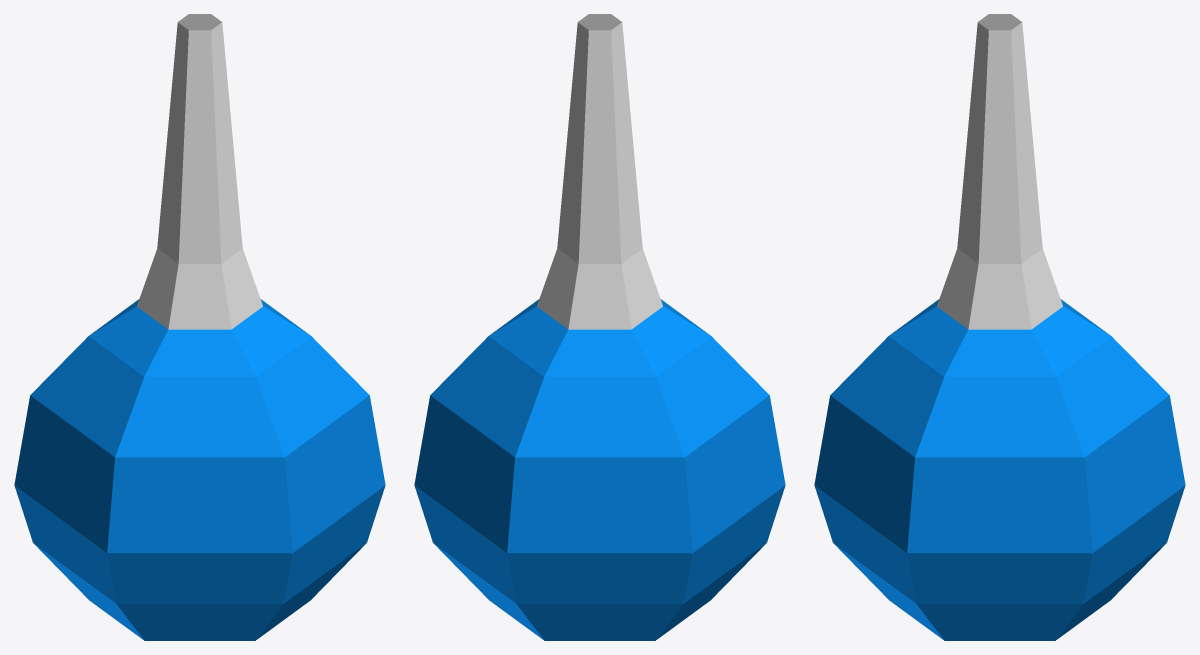
File: Clyster Blue.fbx
3 views of the same model, side by side, from view 1: azimuth 30°, elevation 25°; view 2: azimuth 150°, elevation 25°; view 3: azimuth 270°, elevation 25° (orthographic).
Visible parts, largest first — view 1: Clyster Blue; view 2: Clyster Blue; view 3: Clyster Blue.
Part boxes in pixels (x1=…): Clyster Blue: x1=14, y1=14, x2=385, y2=640; Clyster Blue: x1=414, y1=14, x2=785, y2=640; Clyster Blue: x1=814, y1=14, x2=1185, y2=640.
Size of the model in its own units: 20.89 by 41.46 by 24.12.
